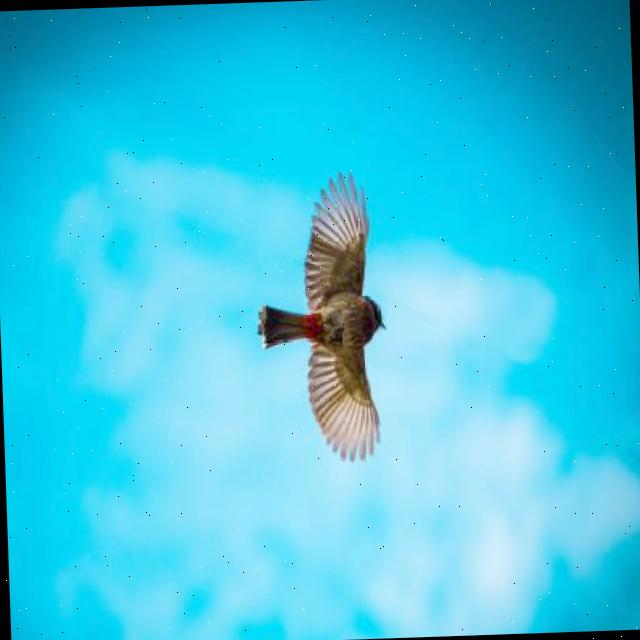bird: (250, 170, 392, 468)
